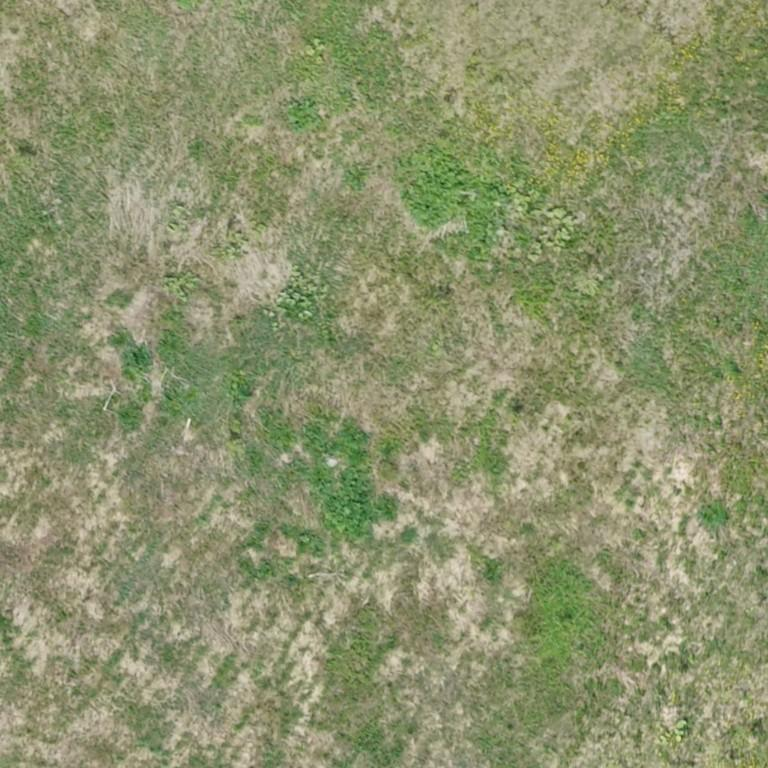hogweed: (405, 149, 491, 252), (315, 466, 388, 537), (304, 420, 366, 464), (121, 347, 148, 374)
